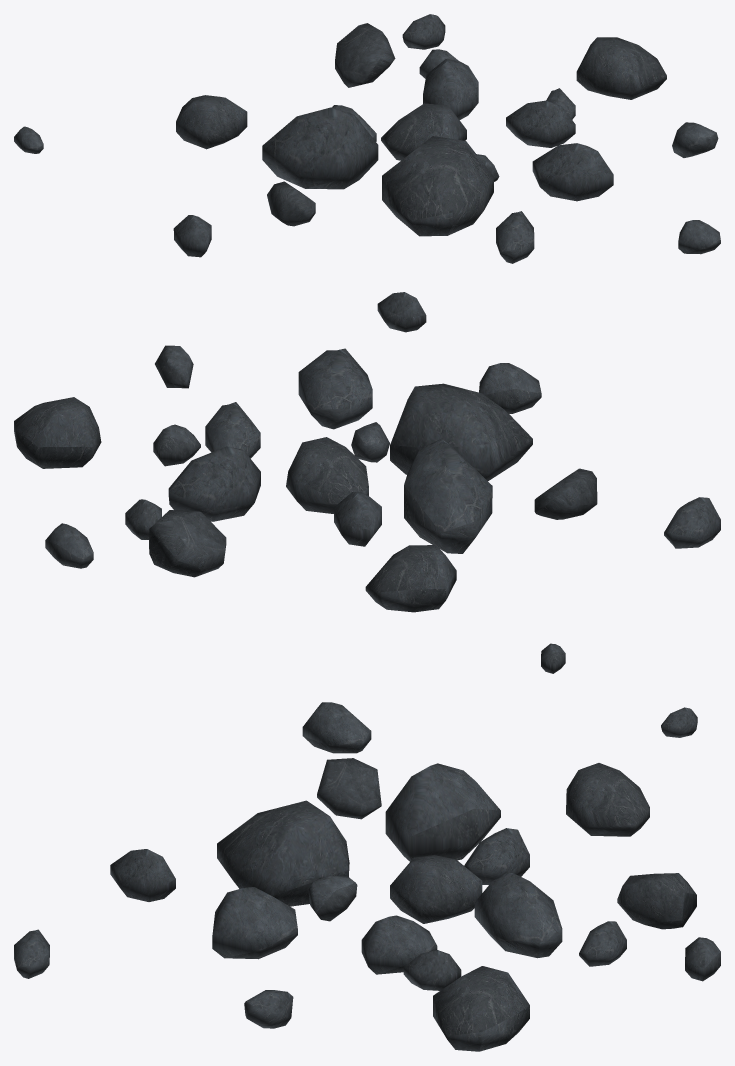
The model's file is SM_Rock_Pebble_Set.fbx.
3 views of the same model, one above another, from view 1: azimuth 30°, elevation 25°; view 2: azimuth 150°, elevation 25°; view 3: azimuth 270°, elevation 25° (orthographic). The views are drawn at different scales.
Parts seen in each view (by area): view 1: SM_Rock_Pebble_Set_01.mo; view 2: SM_Rock_Pebble_Set_01.mo; view 3: SM_Rock_Pebble_Set_01.mo.
Boxes of the visible parts, bbox=[...] form: SM_Rock_Pebble_Set_01.mo: bbox=[14, 14, 720, 263]; SM_Rock_Pebble_Set_01.mo: bbox=[14, 292, 720, 673]; SM_Rock_Pebble_Set_01.mo: bbox=[14, 702, 720, 1051].
Size of the model in its own units: 400 by 52.72 by 366.
